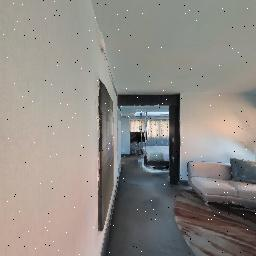door-frame: (112, 98, 175, 196)
